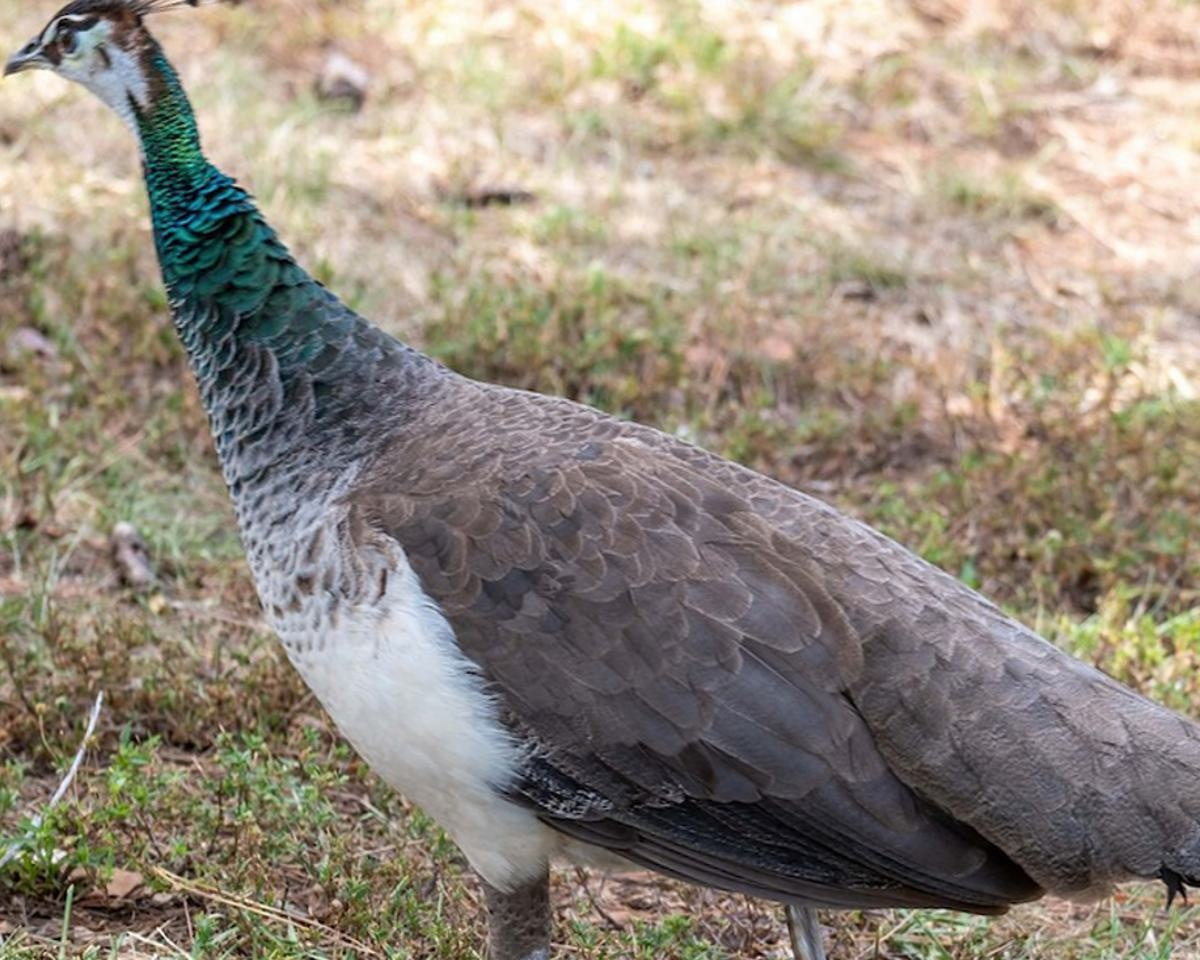peacock: (45, 13, 937, 927)
